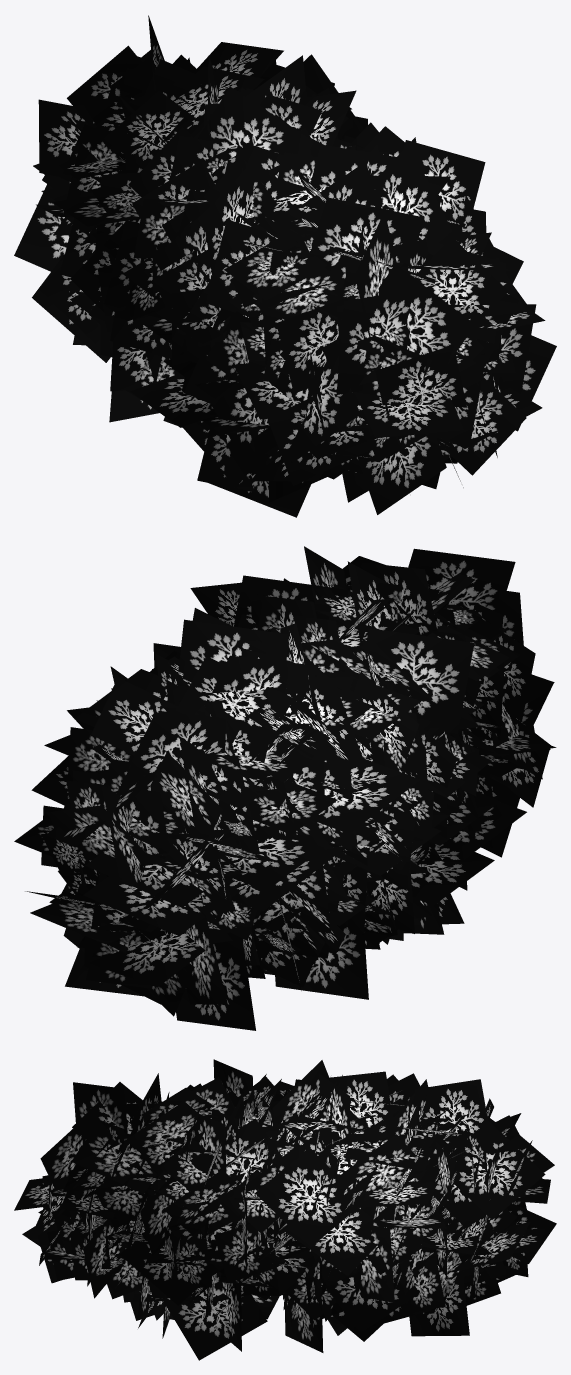
File: SM_Bush_04.glb
3 renders of one model, top to bottom at view 1: azimuth 30°, elevation 25°; view 2: azimuth 150°, elevation 25°; view 3: azimuth 270°, elevation 25°, orthographic. The views are drawn at different scales.
Visible parts, largest first — view 1: SM_Bush_04_LOD0; view 2: SM_Bush_04_LOD0; view 3: SM_Bush_04_LOD0.
Part boxes in pixels (box(x1,y1,x2,y2)): SM_Bush_04_LOD0: box(14, 15, 556, 517); SM_Bush_04_LOD0: box(14, 546, 556, 1030); SM_Bush_04_LOD0: box(14, 1059, 556, 1360).
Size of the model in its own units: 2.83 by 2.83 by 5.23.
1 material, 1 textured.
